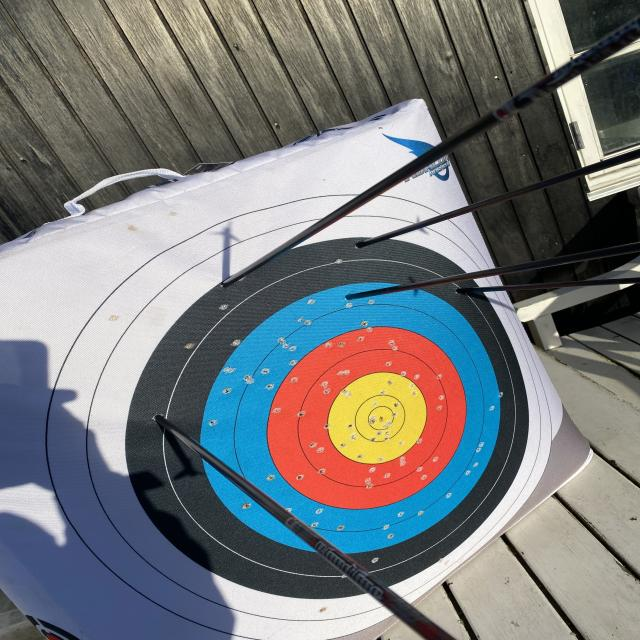Arrow_Black: (138, 405, 176, 433), (205, 274, 248, 293), (347, 235, 377, 259), (448, 282, 475, 301)
Arrow_Blue: (336, 282, 376, 306)
